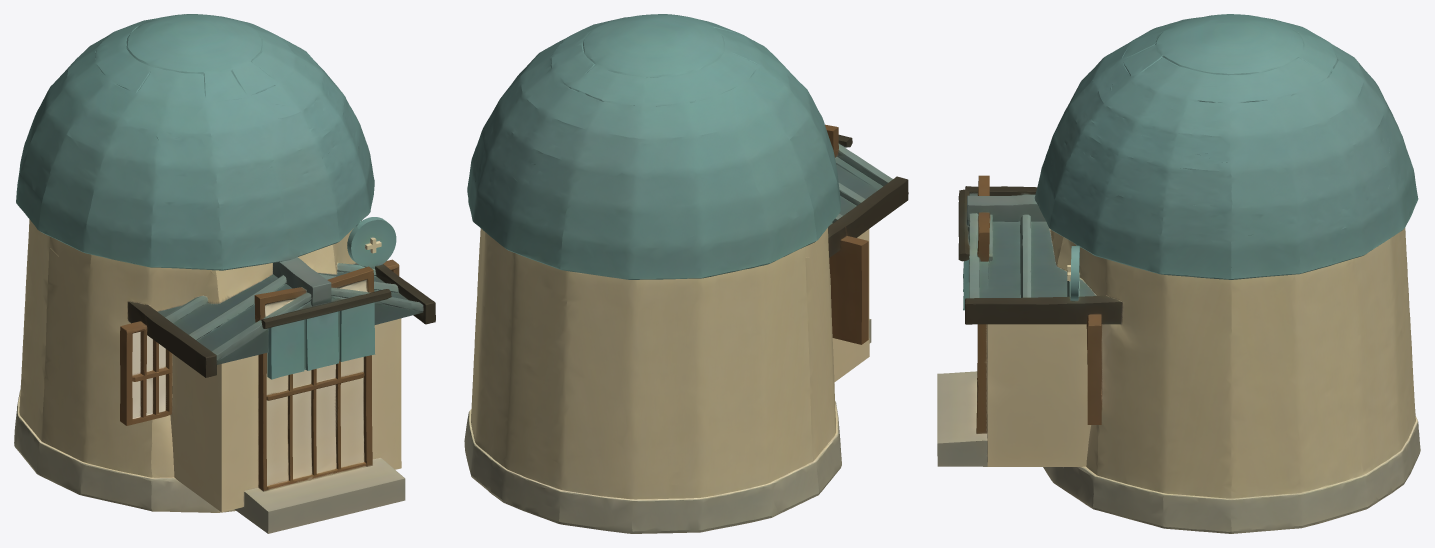
File: source.glb
The picture shows the model from 3 angles, left to right: view 1: azimuth 30°, elevation 25°; view 2: azimuth 150°, elevation 25°; view 3: azimuth 270°, elevation 25°; orthographic projection. The views are drawn at different scales.
Visible parts, largest first — view 1: model; view 2: model; view 3: model.
Boxes of the visible parts, left/top/right/bottom form: model: left=14, top=14, right=435, bottom=533; model: left=464, top=14, right=908, bottom=533; model: left=937, top=14, right=1420, bottom=533.
Bounding box in the file's own units: 1.5 × 1.83 × 1.9.
1 material, 1 textured.
